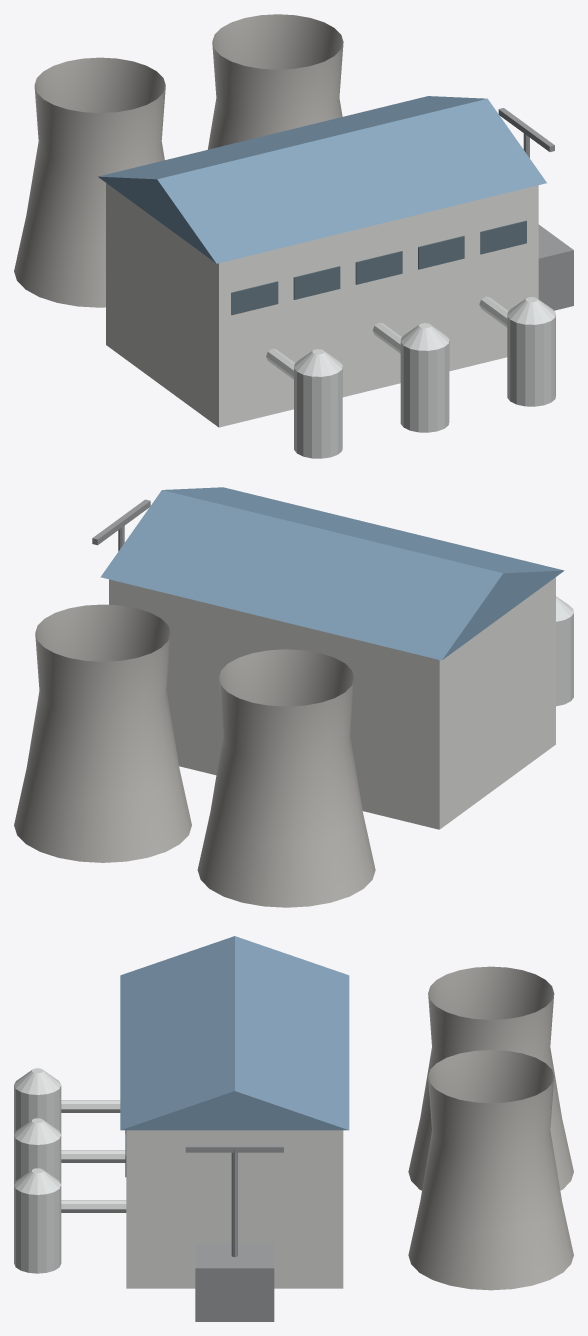
File: GeothermalPlant.glb
3 views of the same model, one above another, from view 1: azimuth 30°, elevation 25°; view 2: azimuth 150°, elevation 25°; view 3: azimuth 270°, elevation 25° (orthographic). The views are drawn at different scales.
Parts seen in each view (by area): view 1: Power house, Power house roof, Cooling tower, Cooling tower.001, Separator.001, Separator.002, Separator, Transformer, Window band, Window band.002, Window band.001, Window band.004 (+5 smaller); view 2: Power house, Power house roof, Cooling tower.001, Cooling tower, Separator, Line arm; view 3: Power house roof, Cooling tower.001, Power house, Cooling tower, Transformer, Separator.002, Separator, Separator.001, Separator cap, Separator cap.001, Separator cap.002, Line arm (+4 smaller).
Boxes of the visible parts, x1=… form: Power house: x1=106, y1=183, x2=538, y2=427; Power house roof: x1=98, y1=96, x2=546, y2=263; Cooling tower: x1=14, y1=57, x2=165, y2=307; Cooling tower.001: x1=208, y1=14, x2=343, y2=149; Separator.001: x1=400, y1=341, x2=449, y2=432; Separator.002: x1=507, y1=315, x2=555, y2=406; Separator: x1=294, y1=367, x2=342, y2=458; Transformer: x1=538, y1=224, x2=573, y2=310; Window band: x1=231, y1=281, x2=278, y2=315; Window band.002: x1=355, y1=251, x2=402, y2=284; Window band.001: x1=293, y1=266, x2=340, y2=299; Window band.004: x1=480, y1=220, x2=526, y2=254; Power house: x1=109, y1=577, x2=555, y2=829; Power house roof: x1=100, y1=487, x2=564, y2=660; Cooling tower.001: x1=14, y1=604, x2=191, y2=862; Cooling tower: x1=197, y1=649, x2=375, y2=907; Separator: x1=556, y1=613, x2=573, y2=706; Line arm: x1=92, y1=499, x2=150, y2=545; Power house roof: x1=120, y1=936, x2=349, y2=1130; Cooling tower.001: x1=408, y1=1050, x2=573, y2=1290; Power house: x1=126, y1=1130, x2=343, y2=1288; Cooling tower: x1=408, y1=966, x2=573, y2=1190; Transformer: x1=195, y1=1243, x2=274, y2=1321; Separator.002: x1=14, y1=1185, x2=61, y2=1273; Separator: x1=14, y1=1085, x2=61, y2=1134; Separator.001: x1=14, y1=1135, x2=61, y2=1184; Separator cap: x1=14, y1=1068, x2=60, y2=1094; Separator cap.001: x1=14, y1=1118, x2=60, y2=1144; Separator cap.002: x1=14, y1=1168, x2=60, y2=1194; Line arm: x1=185, y1=1144, x2=283, y2=1152.
Bounding box in the file's own units: 22.3 × 11.2 × 28.4.
